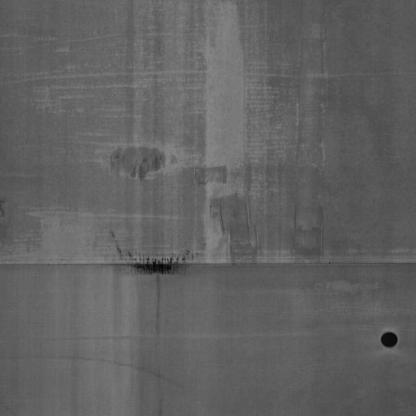inclusion: (115, 244, 196, 278)
punching_hole: (378, 318, 401, 355)
rolled_pit: (287, 22, 333, 265), (192, 152, 271, 261)
welding_line: (1, 252, 415, 283)
